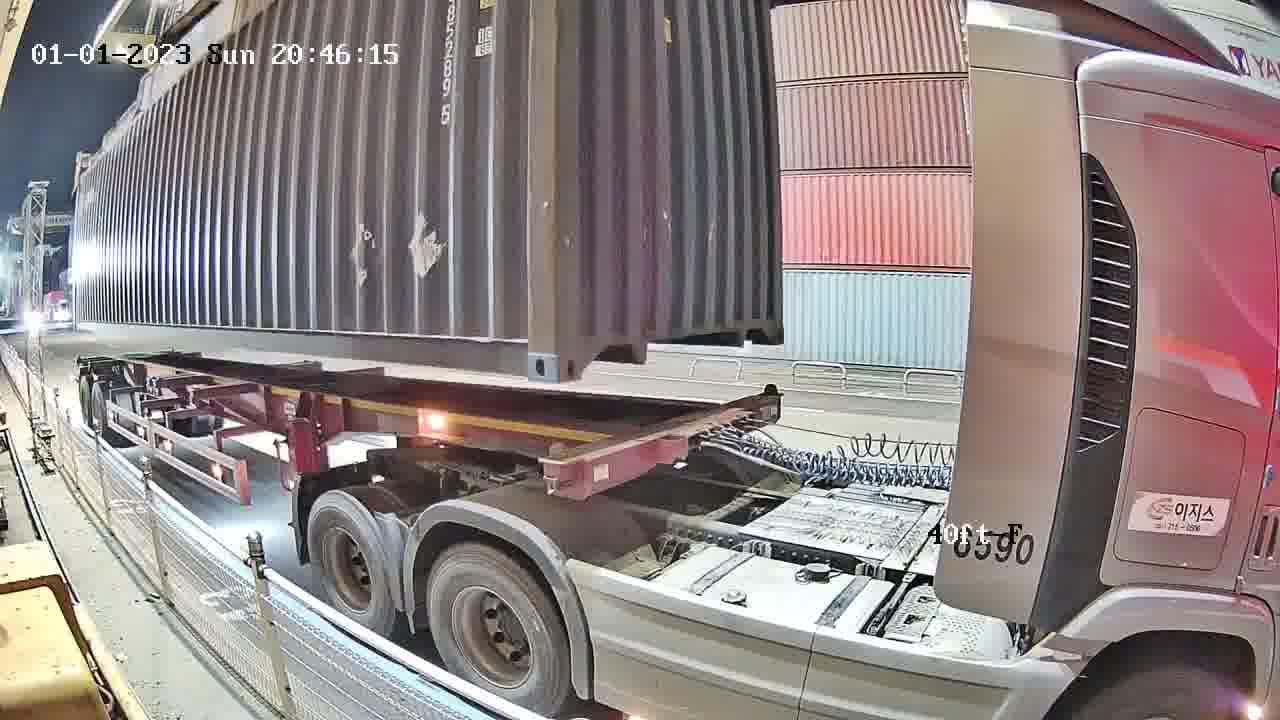Chassis: (541, 393, 782, 502)
Cone: (542, 443, 571, 495), (760, 382, 781, 418)
Hole_L: (556, 318, 611, 383)
Hole_R: (495, 318, 556, 384)
Tire: (427, 546, 569, 710), (309, 493, 390, 629)
